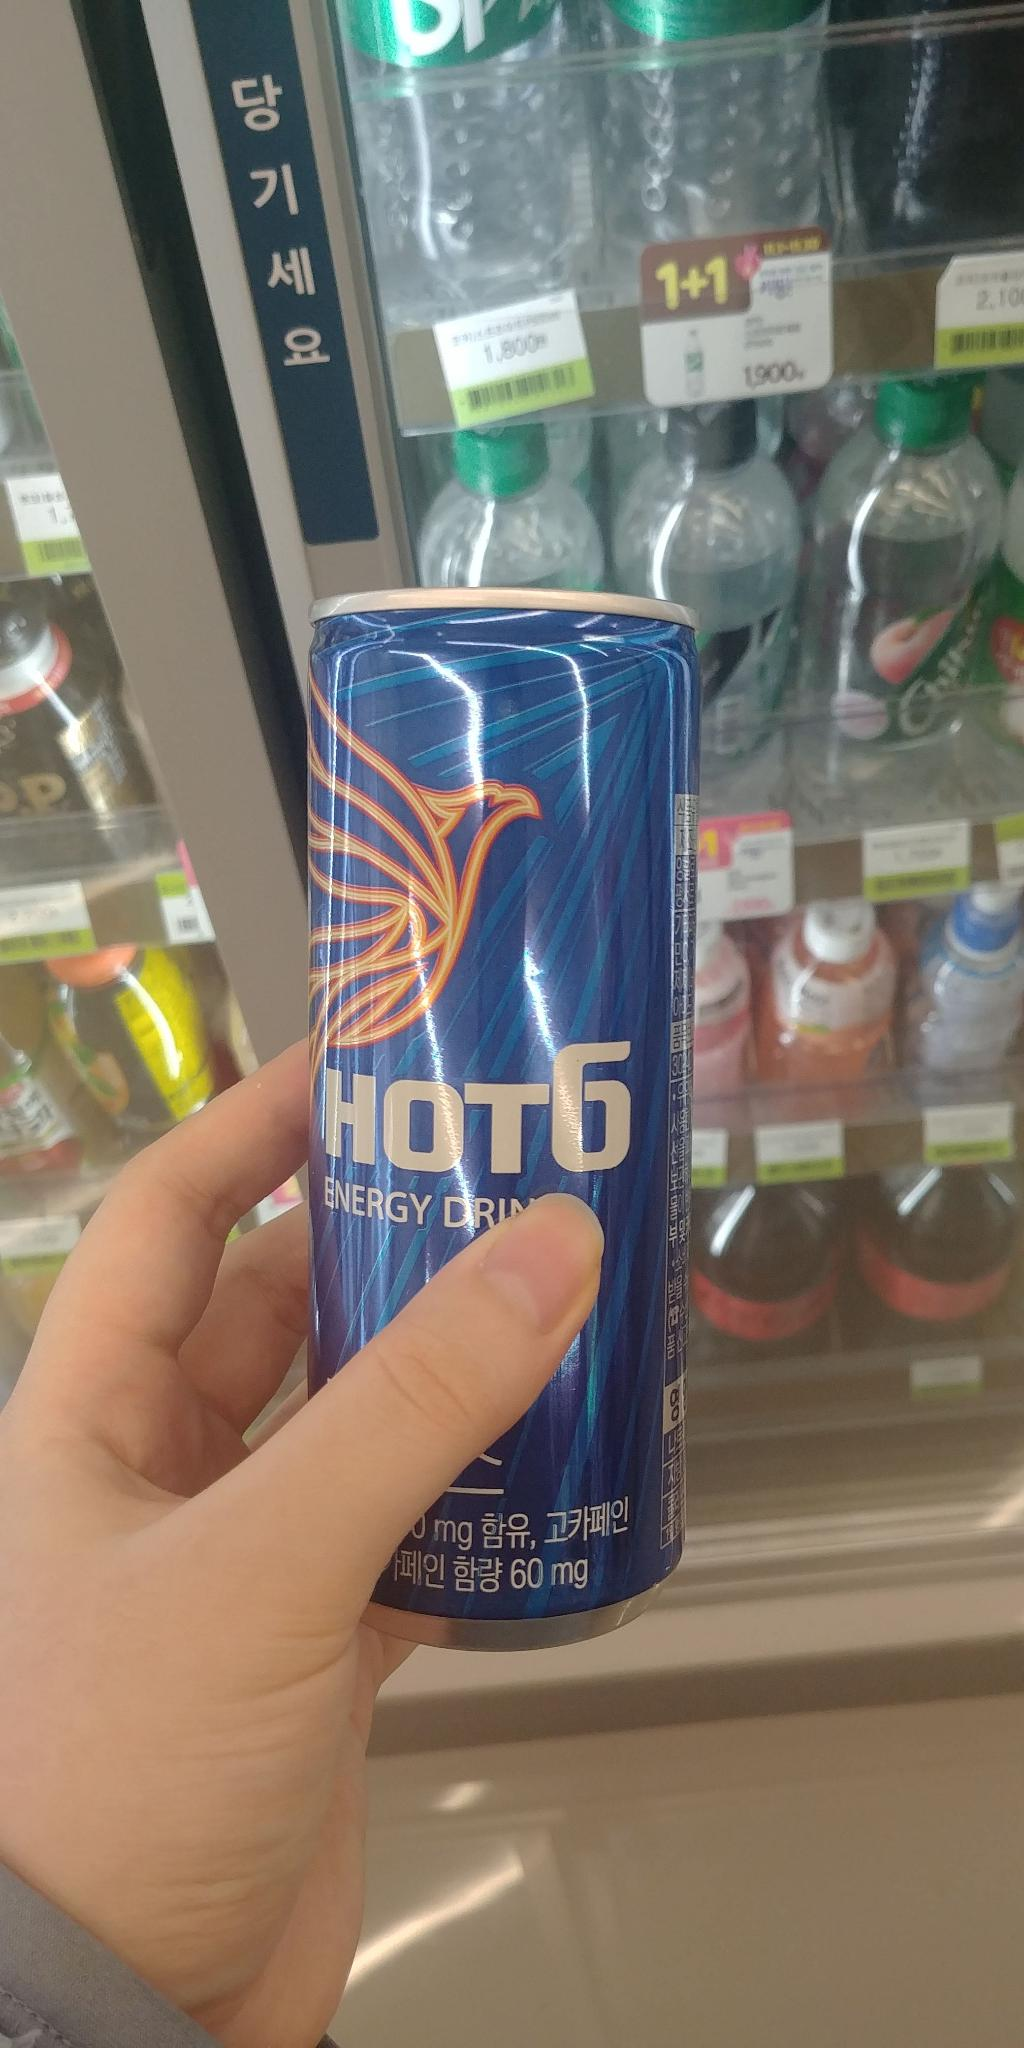hotsix_org: (266, 554, 738, 1648)
